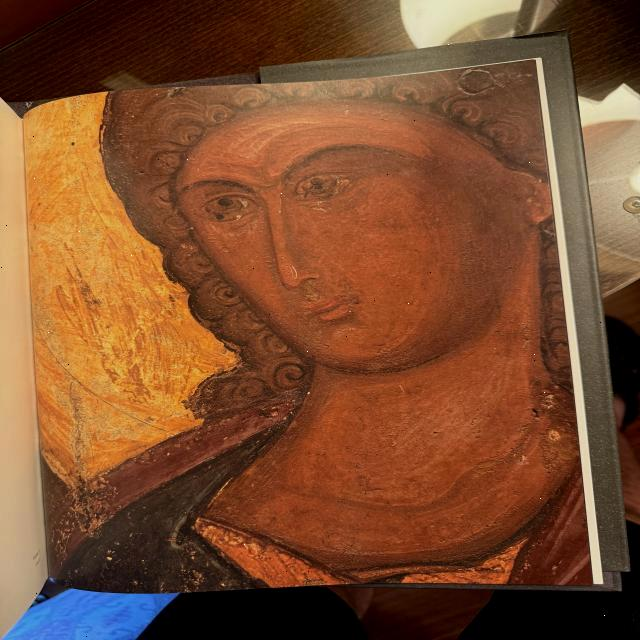saint: (97, 89, 585, 581)
